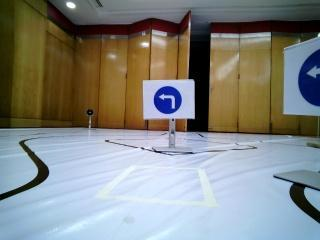left: (284, 36, 320, 118), (145, 80, 193, 122)
